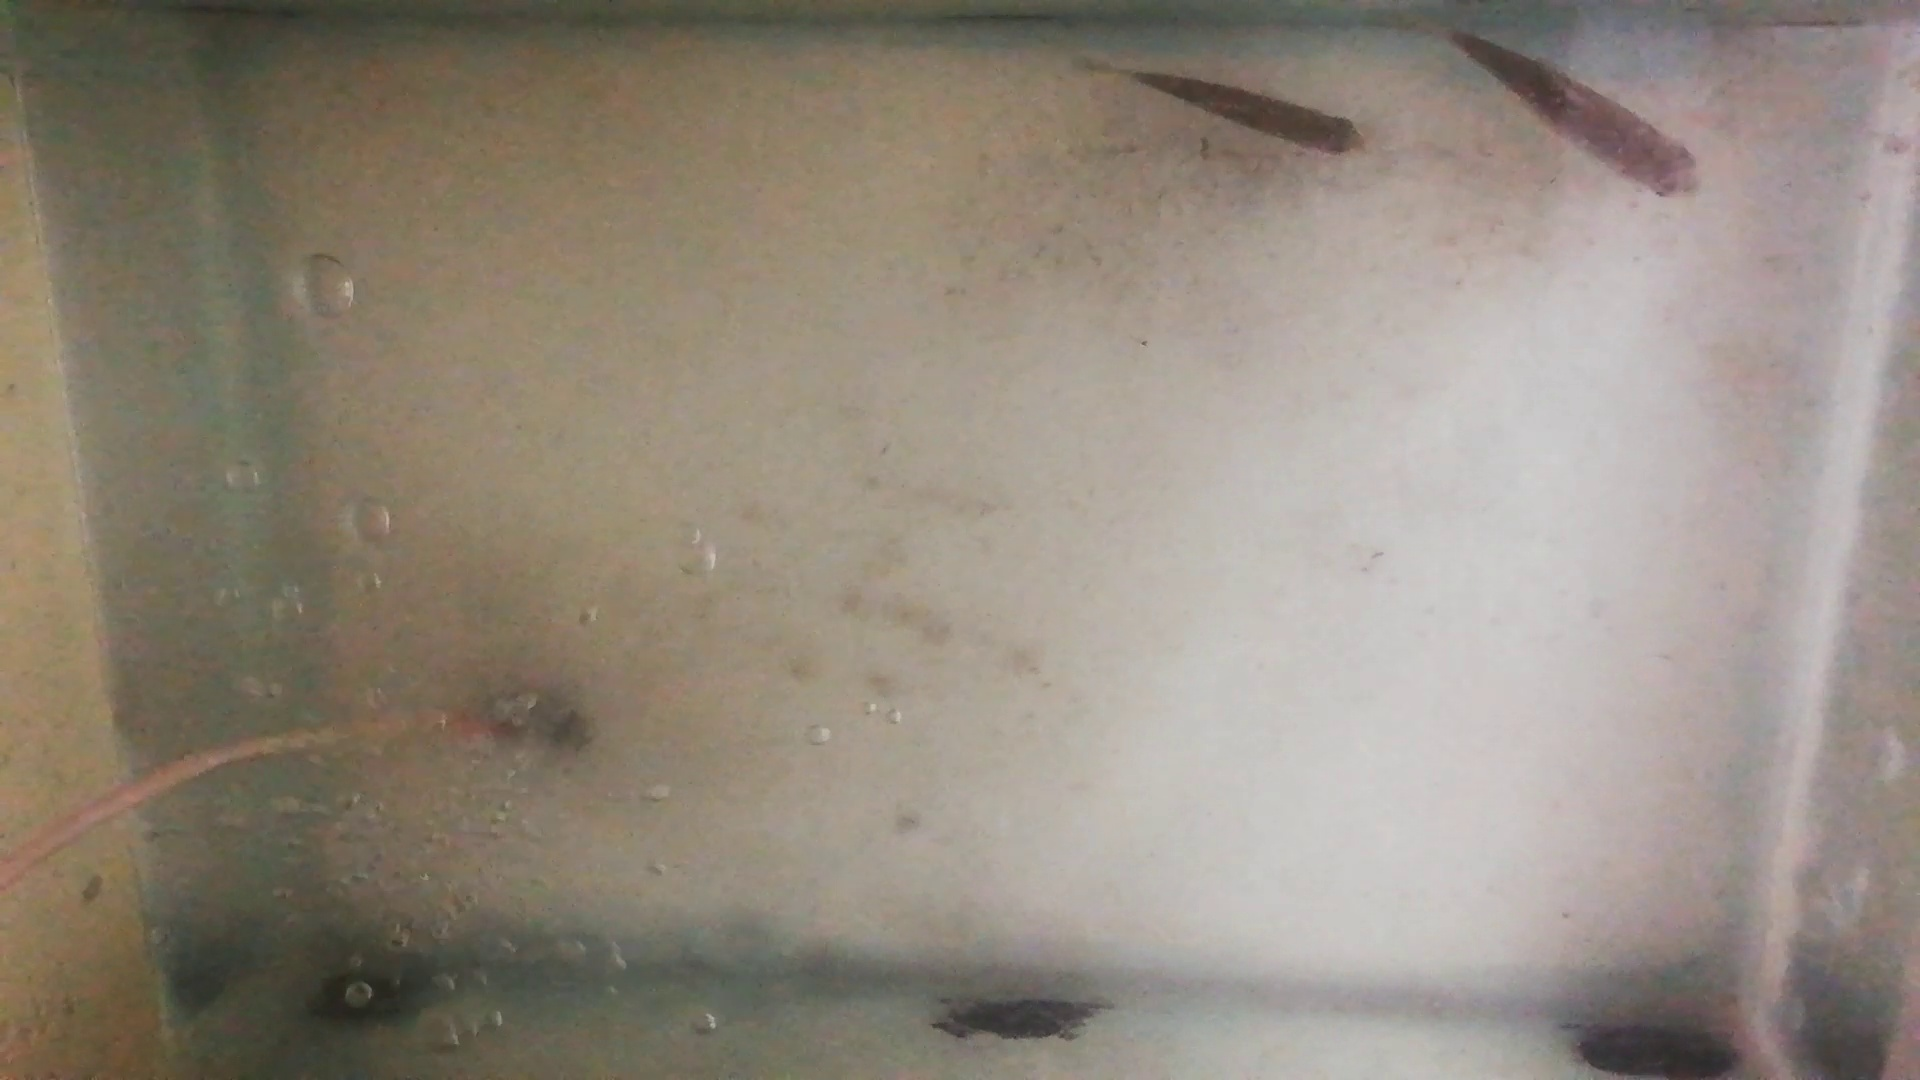fish: (1443, 26, 1704, 199), (1126, 69, 1367, 157)
